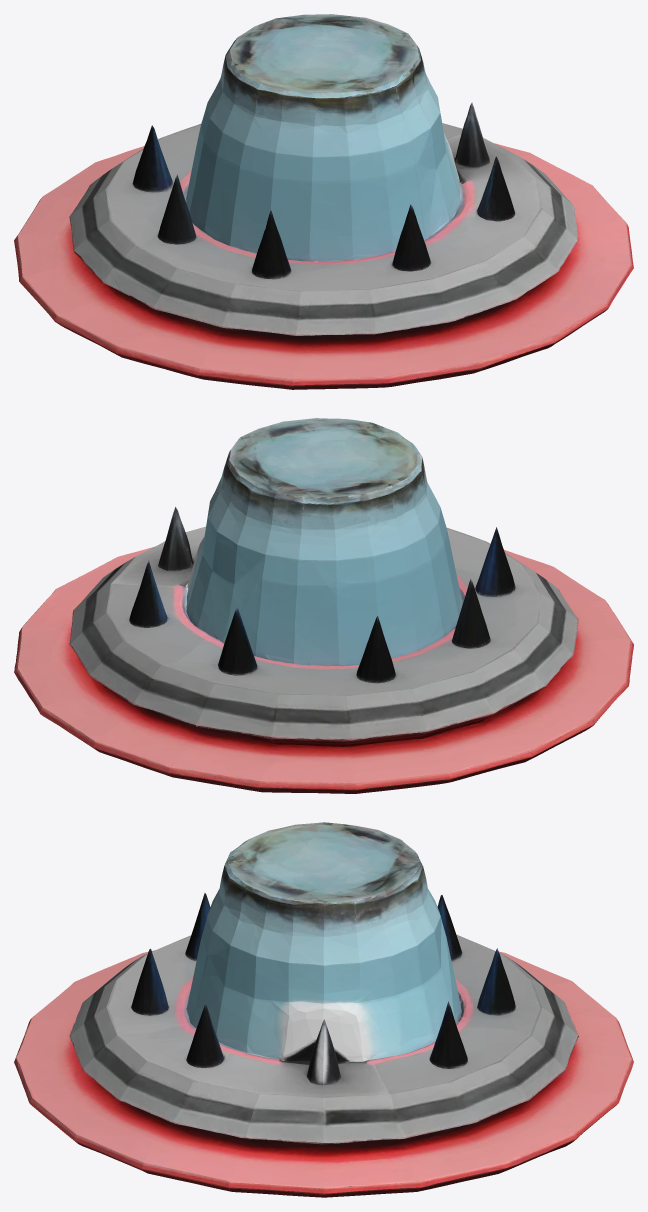
The model's file is nano_t03.glb.
3 renders of one model, top to bottom at view 1: azimuth 30°, elevation 25°; view 2: azimuth 150°, elevation 25°; view 3: azimuth 270°, elevation 25°, orthographic.
Parts seen in each view (by area): view 1: geometry_0; view 2: geometry_0; view 3: geometry_0.
Boxes of the visible parts, box(x1,y1,x2,y2) form: geometry_0: box(14, 14, 633, 389); geometry_0: box(14, 418, 633, 793); geometry_0: box(14, 822, 633, 1197).
Bounding box in the file's own units: 2 × 1.05 × 2.
1 material, 1 textured.
